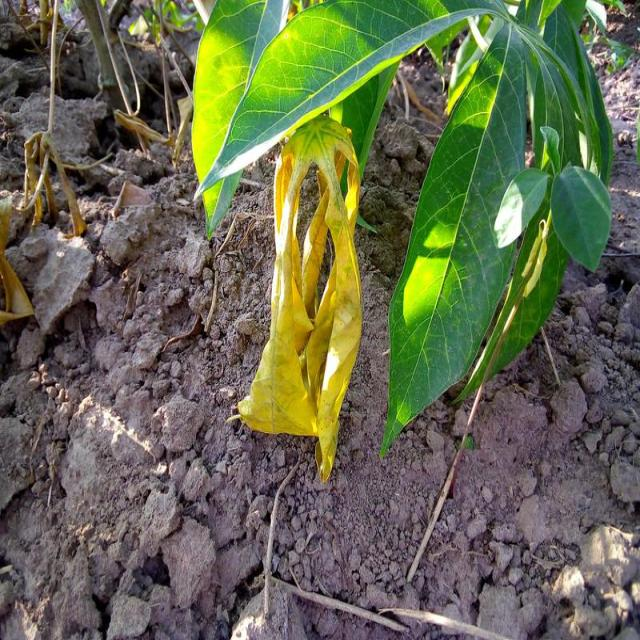cassava leaf: (191, 0, 492, 238), (378, 16, 529, 459), (226, 112, 364, 482)
